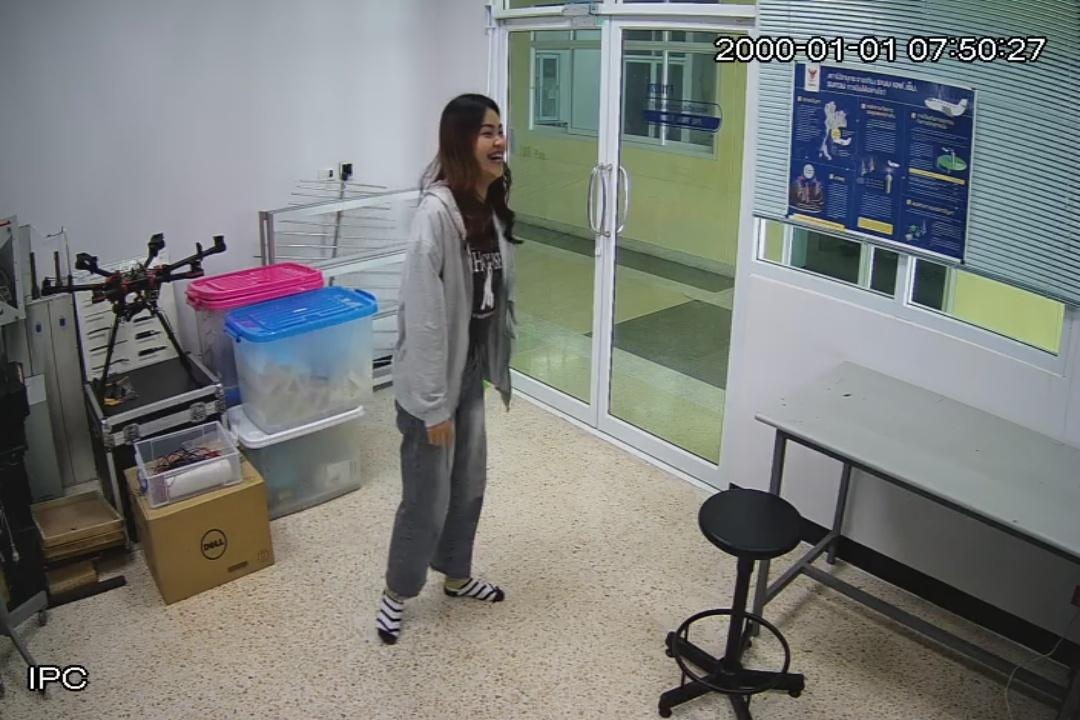normal: (372, 90, 528, 652)
